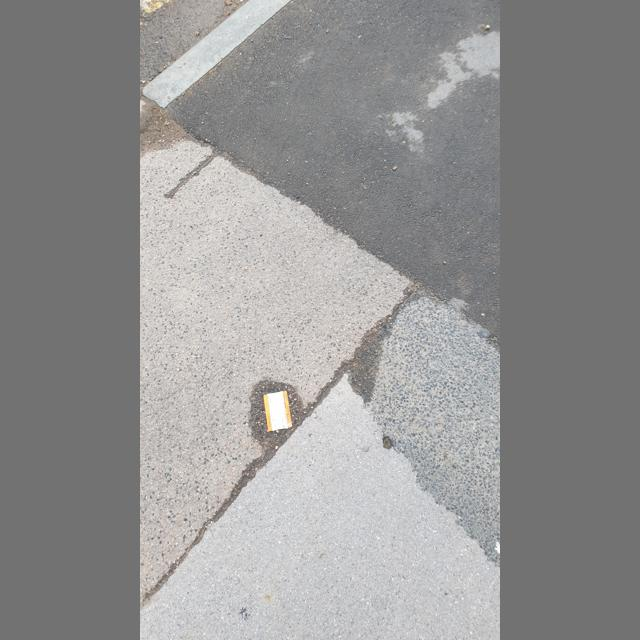litter: (263, 391, 293, 431)
